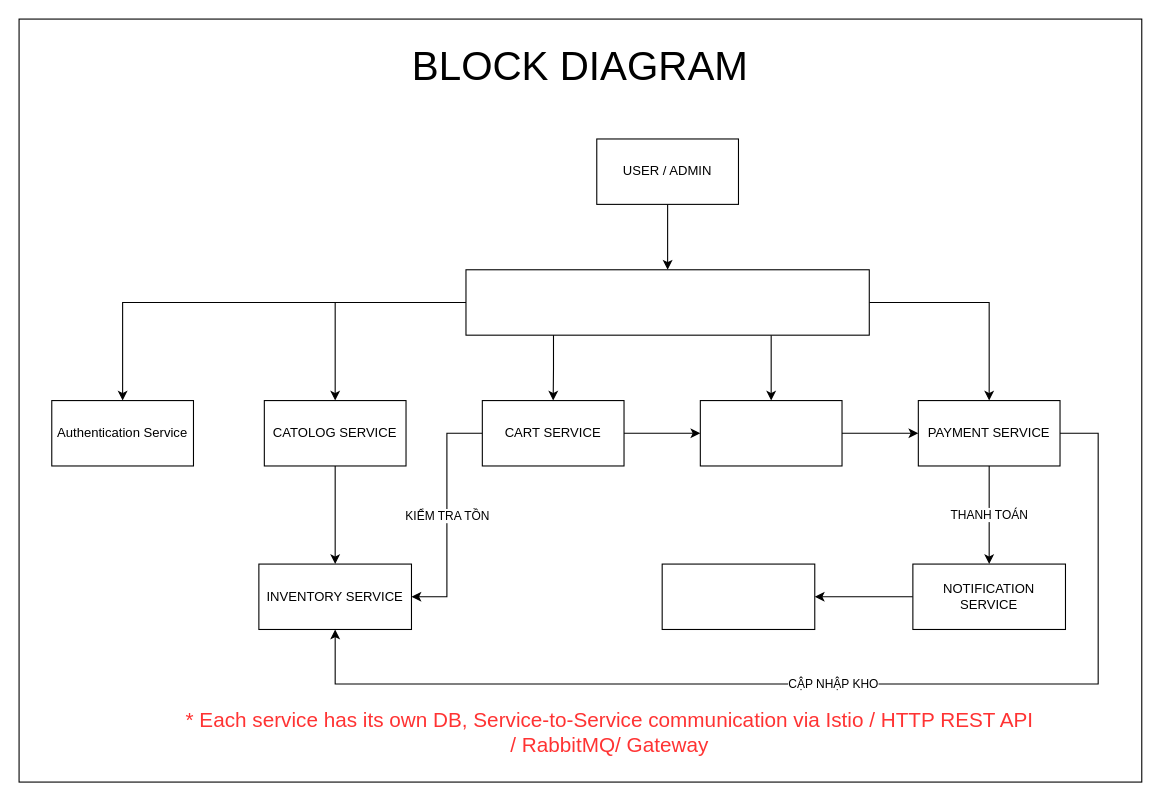
Some shapes in this 1161 by 801 pixel diagram are drawn without their labels. The box of each missing label's shape, as (x1, y1, x2, y2) in pixels:
API GATEWAY USER / ADMIN: (465, 269, 869, 335)
ORDER SERVICE: (699, 399, 842, 466)
REVIEW SERVICE: (661, 563, 815, 629)
